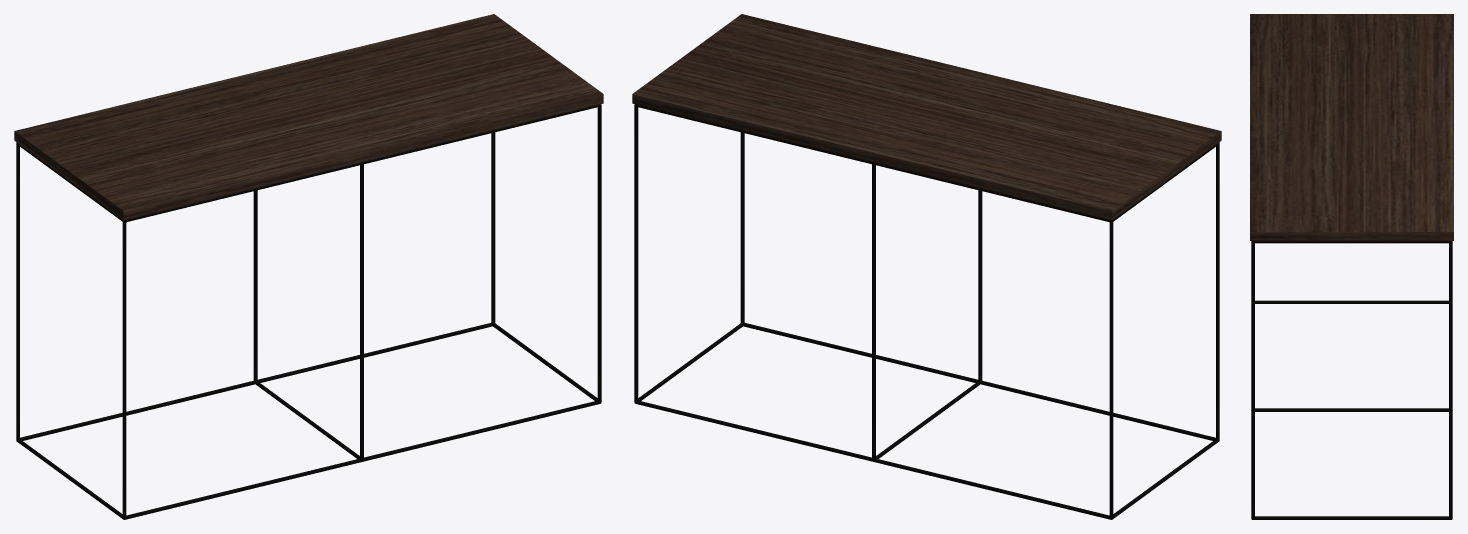
Rendered from Mesa.obj.
3 views of the same model, side by side, from view 1: azimuth 30°, elevation 25°; view 2: azimuth 150°, elevation 25°; view 3: azimuth 270°, elevation 25° (orthographic). The views are drawn at different scales.
Visible parts, largest first — view 1: Console_Table_Wood, Console_Table; view 2: Console_Table_Wood, Console_Table; view 3: Console_Table_Wood, Console_Table.
Part boxes in pixels (bbox=[...]): Console_Table_Wood: bbox=[14, 14, 603, 220]; Console_Table: bbox=[16, 104, 601, 519]; Console_Table_Wood: bbox=[632, 14, 1221, 220]; Console_Table: bbox=[634, 104, 1219, 519]; Console_Table_Wood: bbox=[1250, 14, 1453, 240]; Console_Table: bbox=[1251, 241, 1452, 519].
Size of the model in its own units: 3.13 by 1.93 by 1.24.
2 materials, 2 textured.
